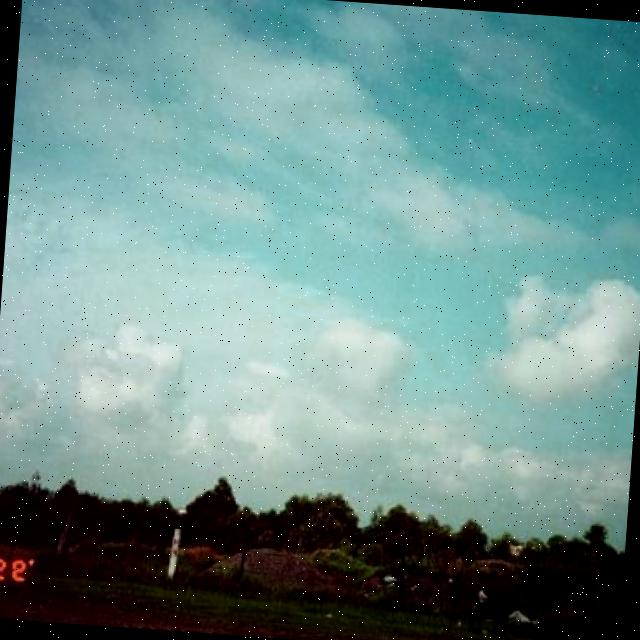Cc: (1, 13, 640, 497)
